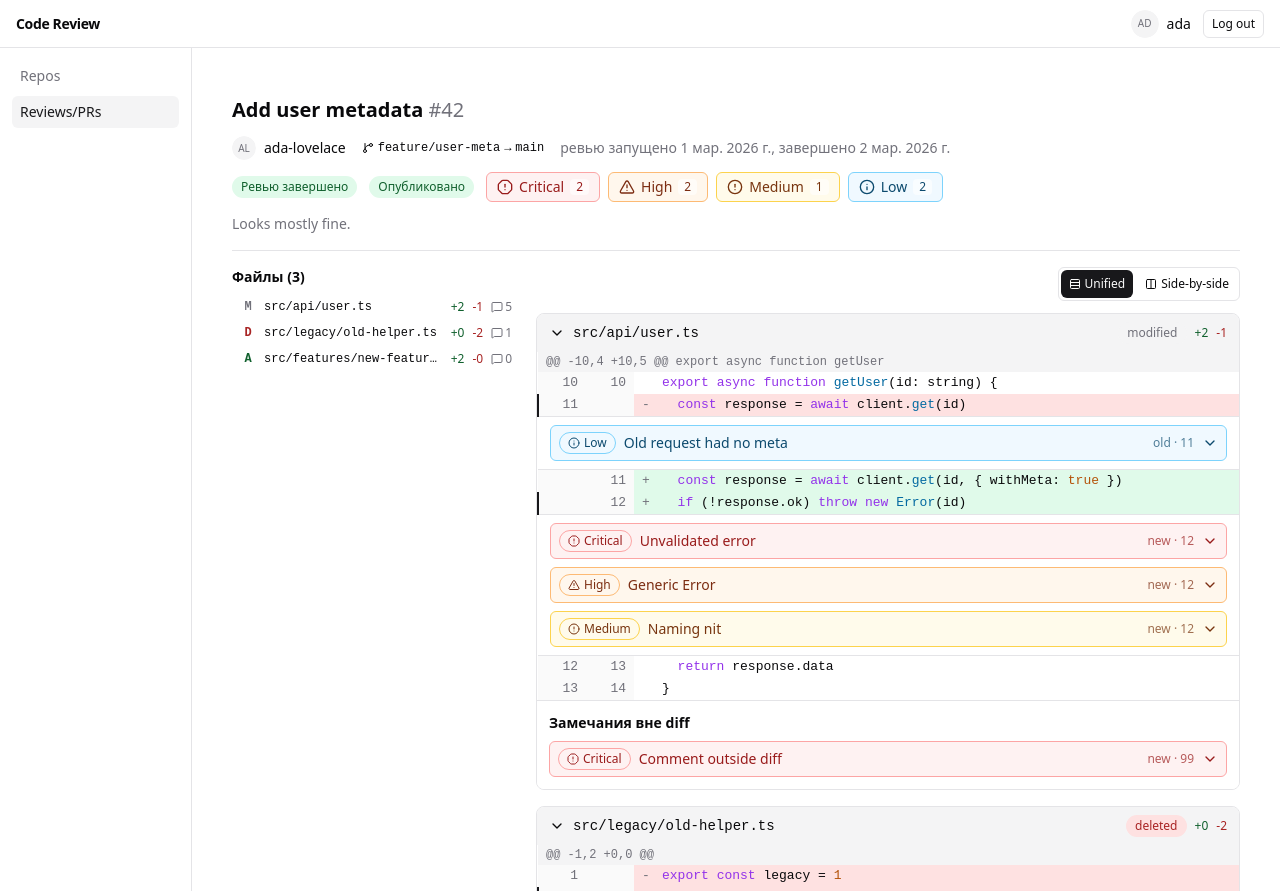
Test: PullRequestPage: files › collapses and expands a file
Check: the heading "Add user metadata #42" is shown, box [232,96,464,123]
Check: the 1st table with test id "diff-table" is shown, box [537,352,1239,700]
Click the button "src/api/user.ts".
click(624, 333)  # box [549,323,699,343]
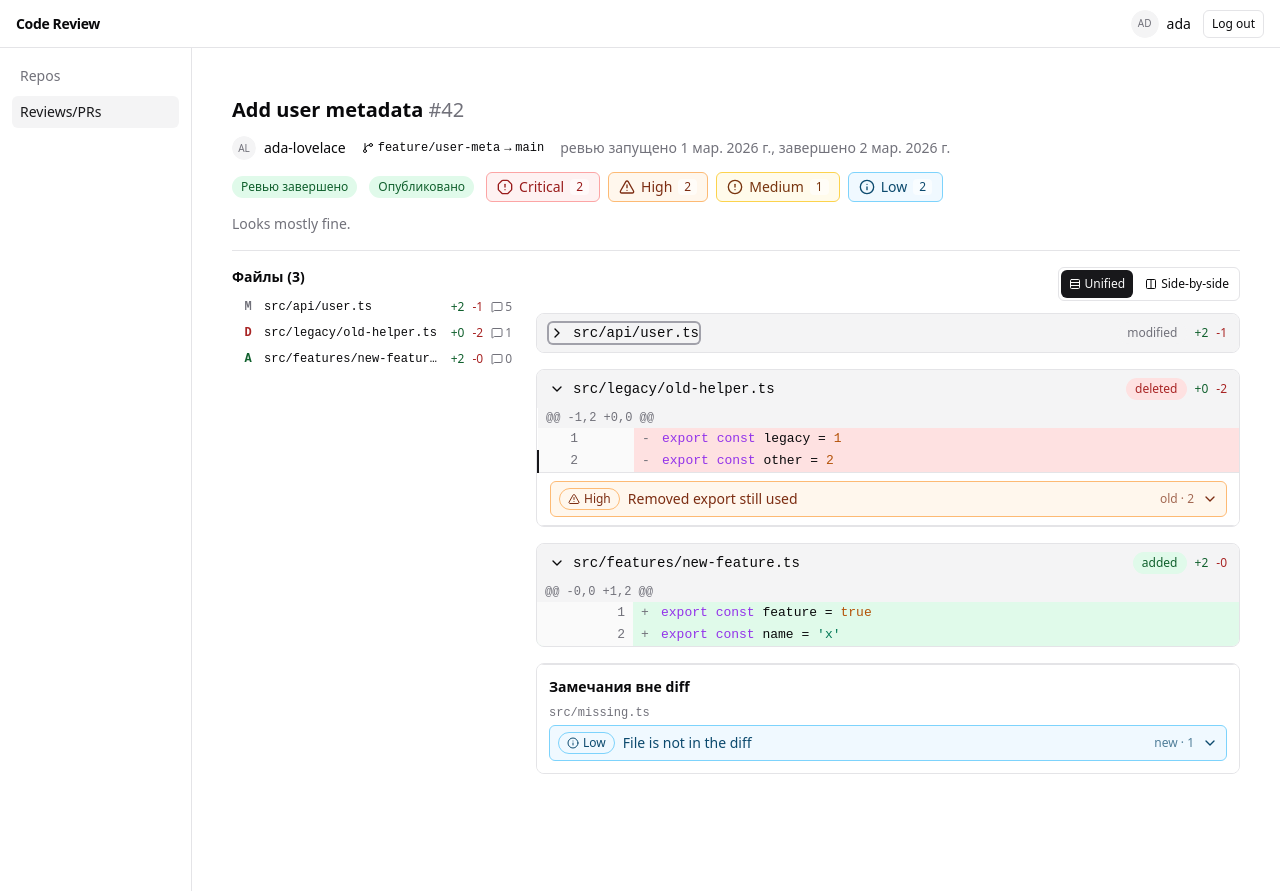
Check: the button "src/api/user.ts" is collapsed
Click the button "src/api/user.ts".
click(624, 333)  # box [549,323,699,343]
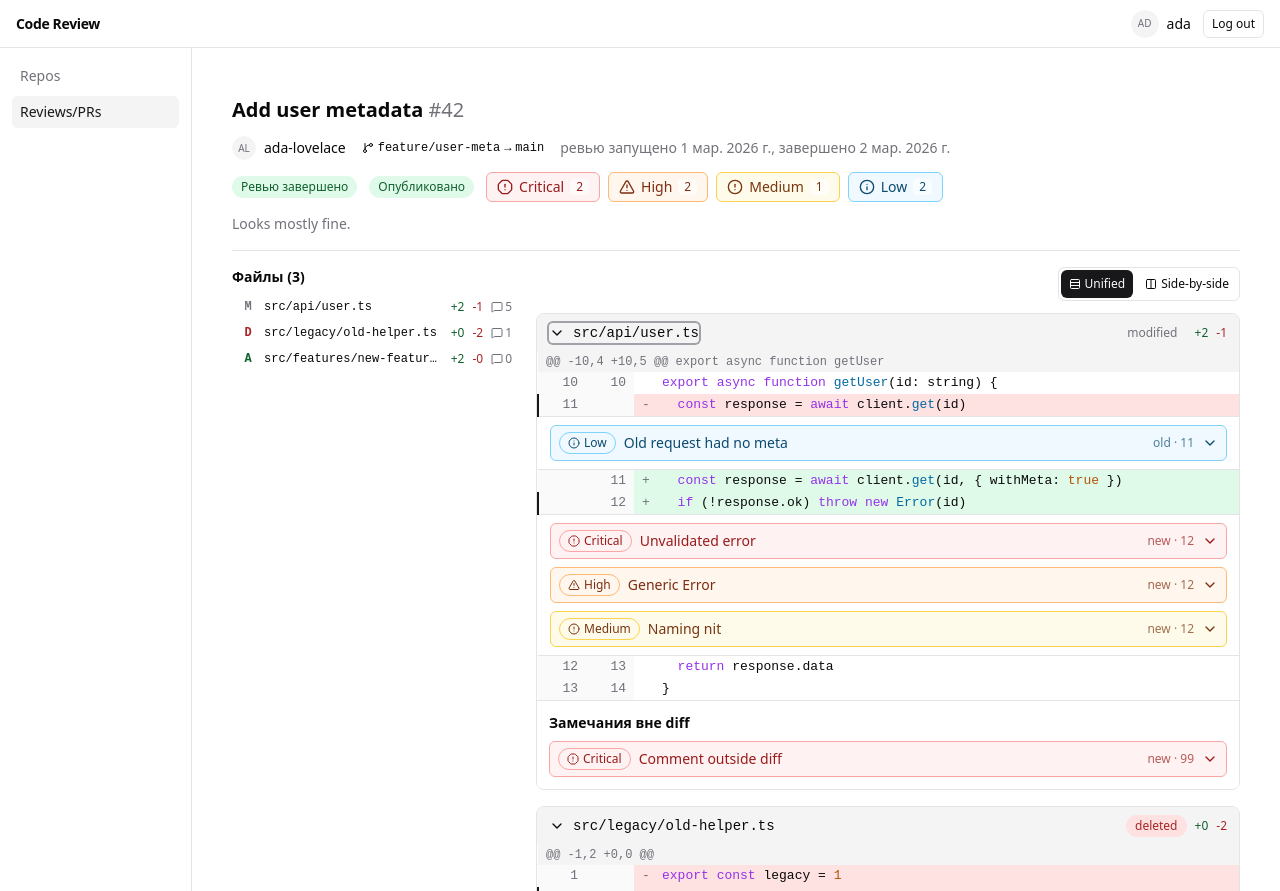
Check: the 1st table with test id "diff-table" is shown, box [537,352,1239,700]
